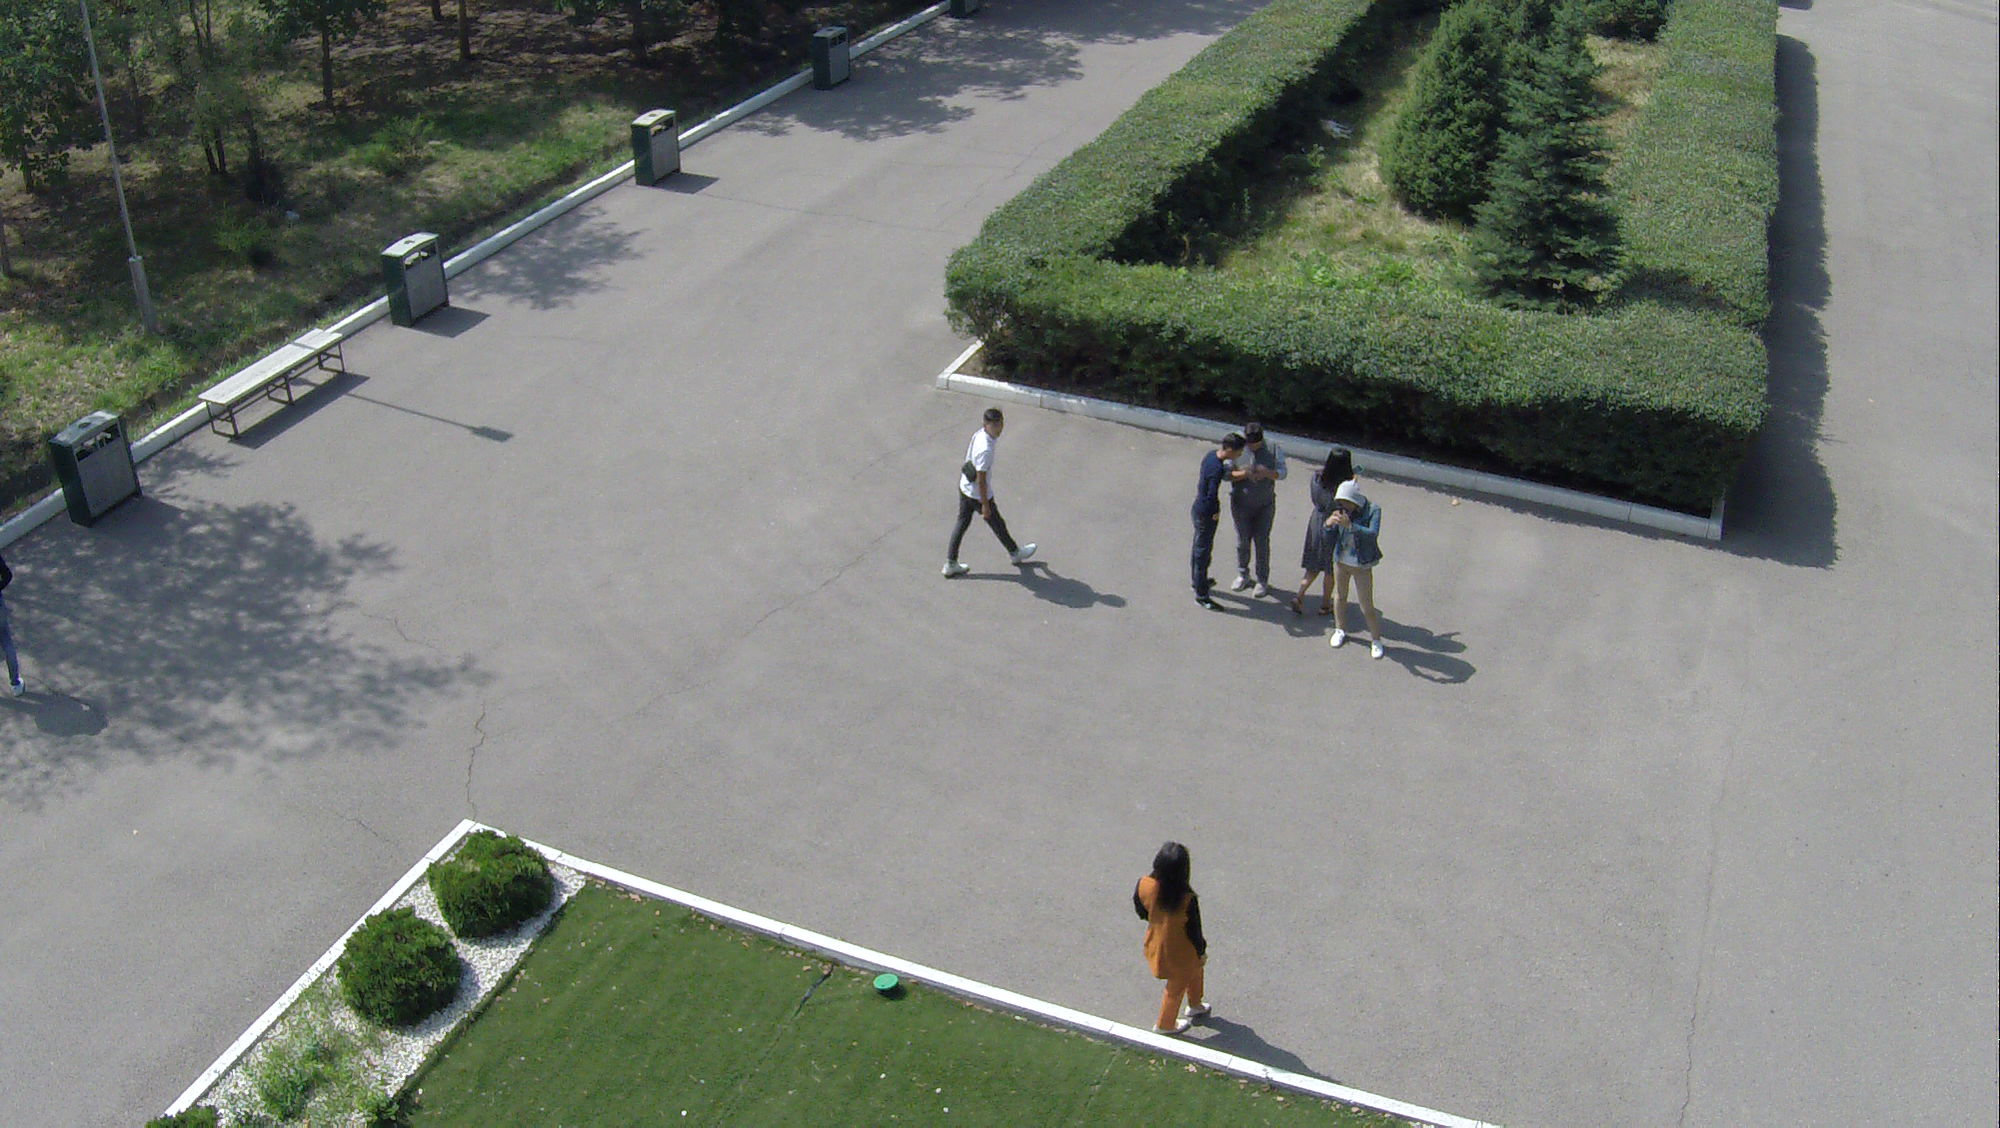person: (945, 397, 1051, 583), (1132, 837, 1207, 1049), (1282, 443, 1364, 626), (1218, 424, 1291, 610), (1324, 483, 1393, 660), (1191, 433, 1243, 624)
